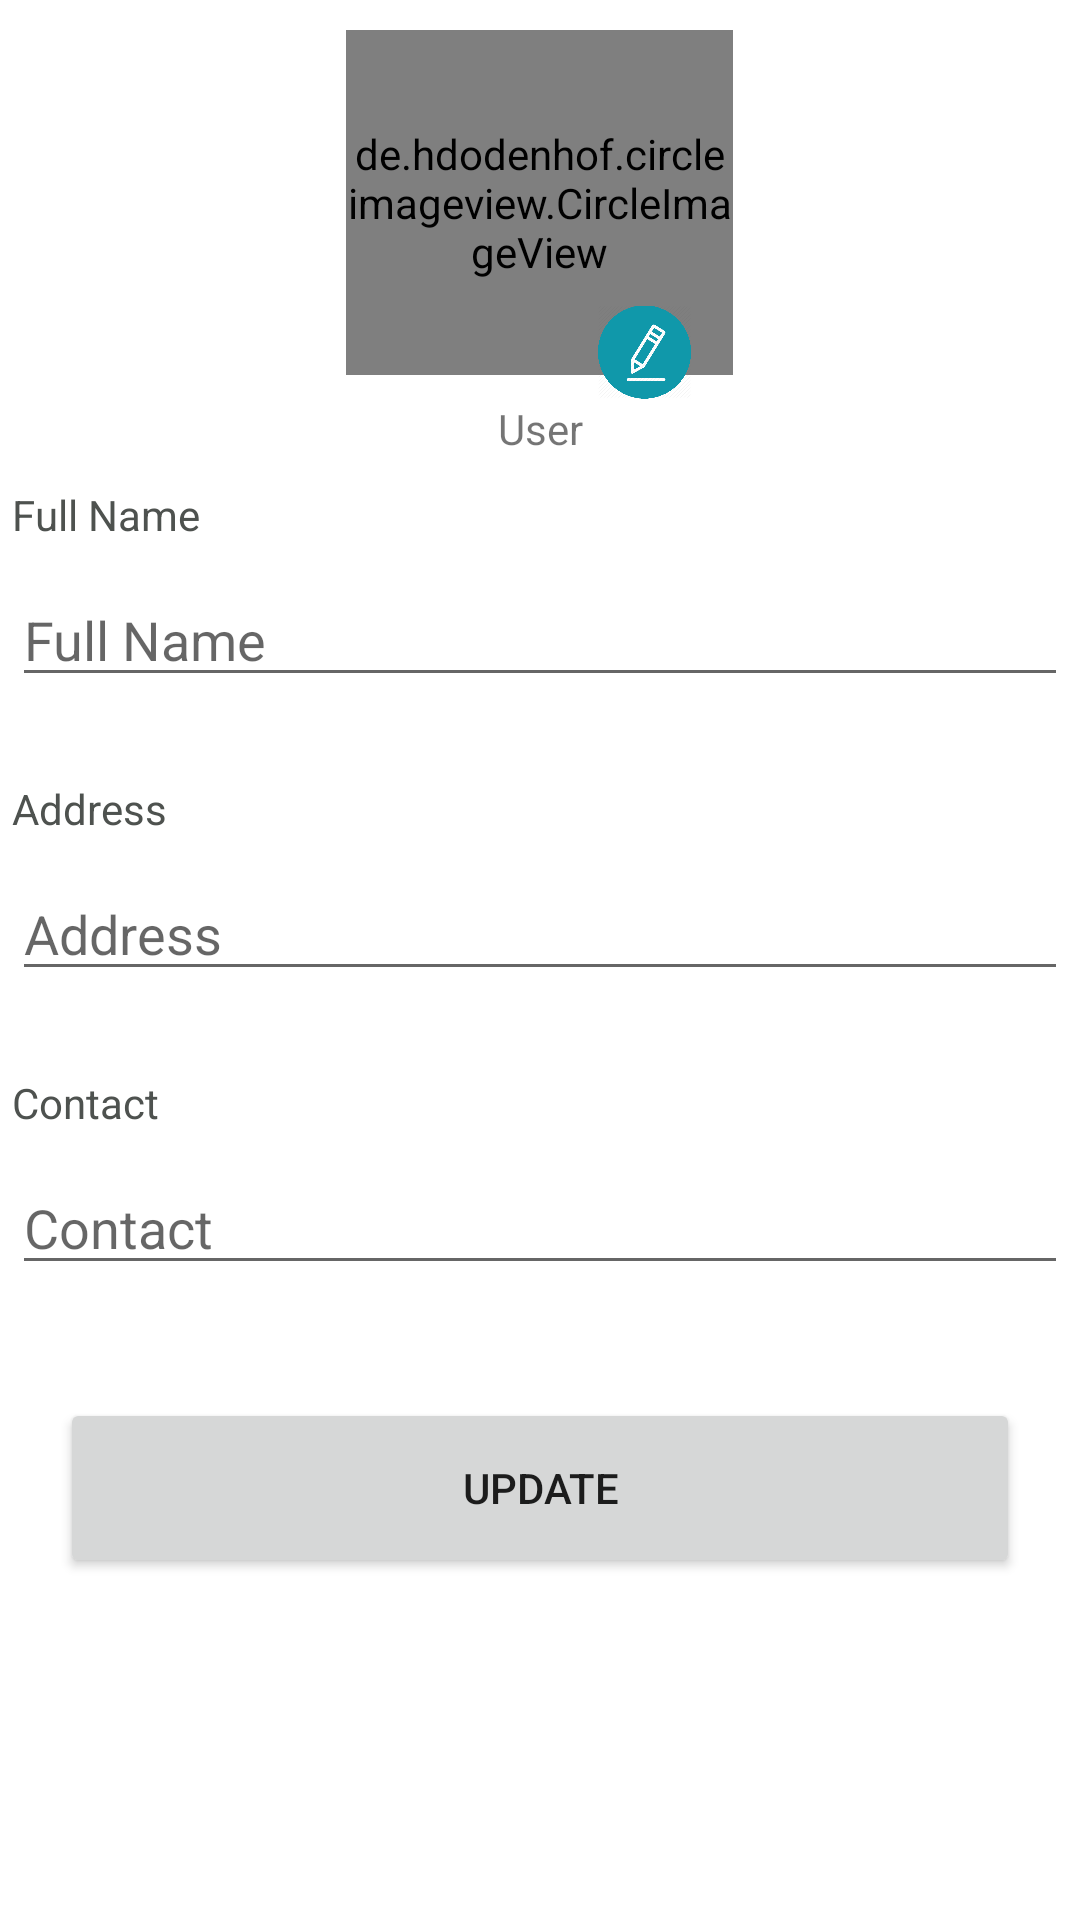

Icon click points for this 1080px x 1920px phone screenshot, format point (x, y):
edit: point (644, 353)
